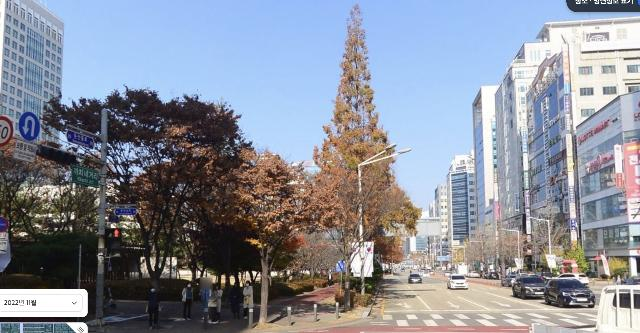ginkgo: (556, 237, 591, 281), (605, 254, 629, 282)
other: (31, 84, 252, 311), (312, 3, 424, 308), (185, 122, 316, 325), (0, 152, 106, 290), (453, 228, 494, 282)
